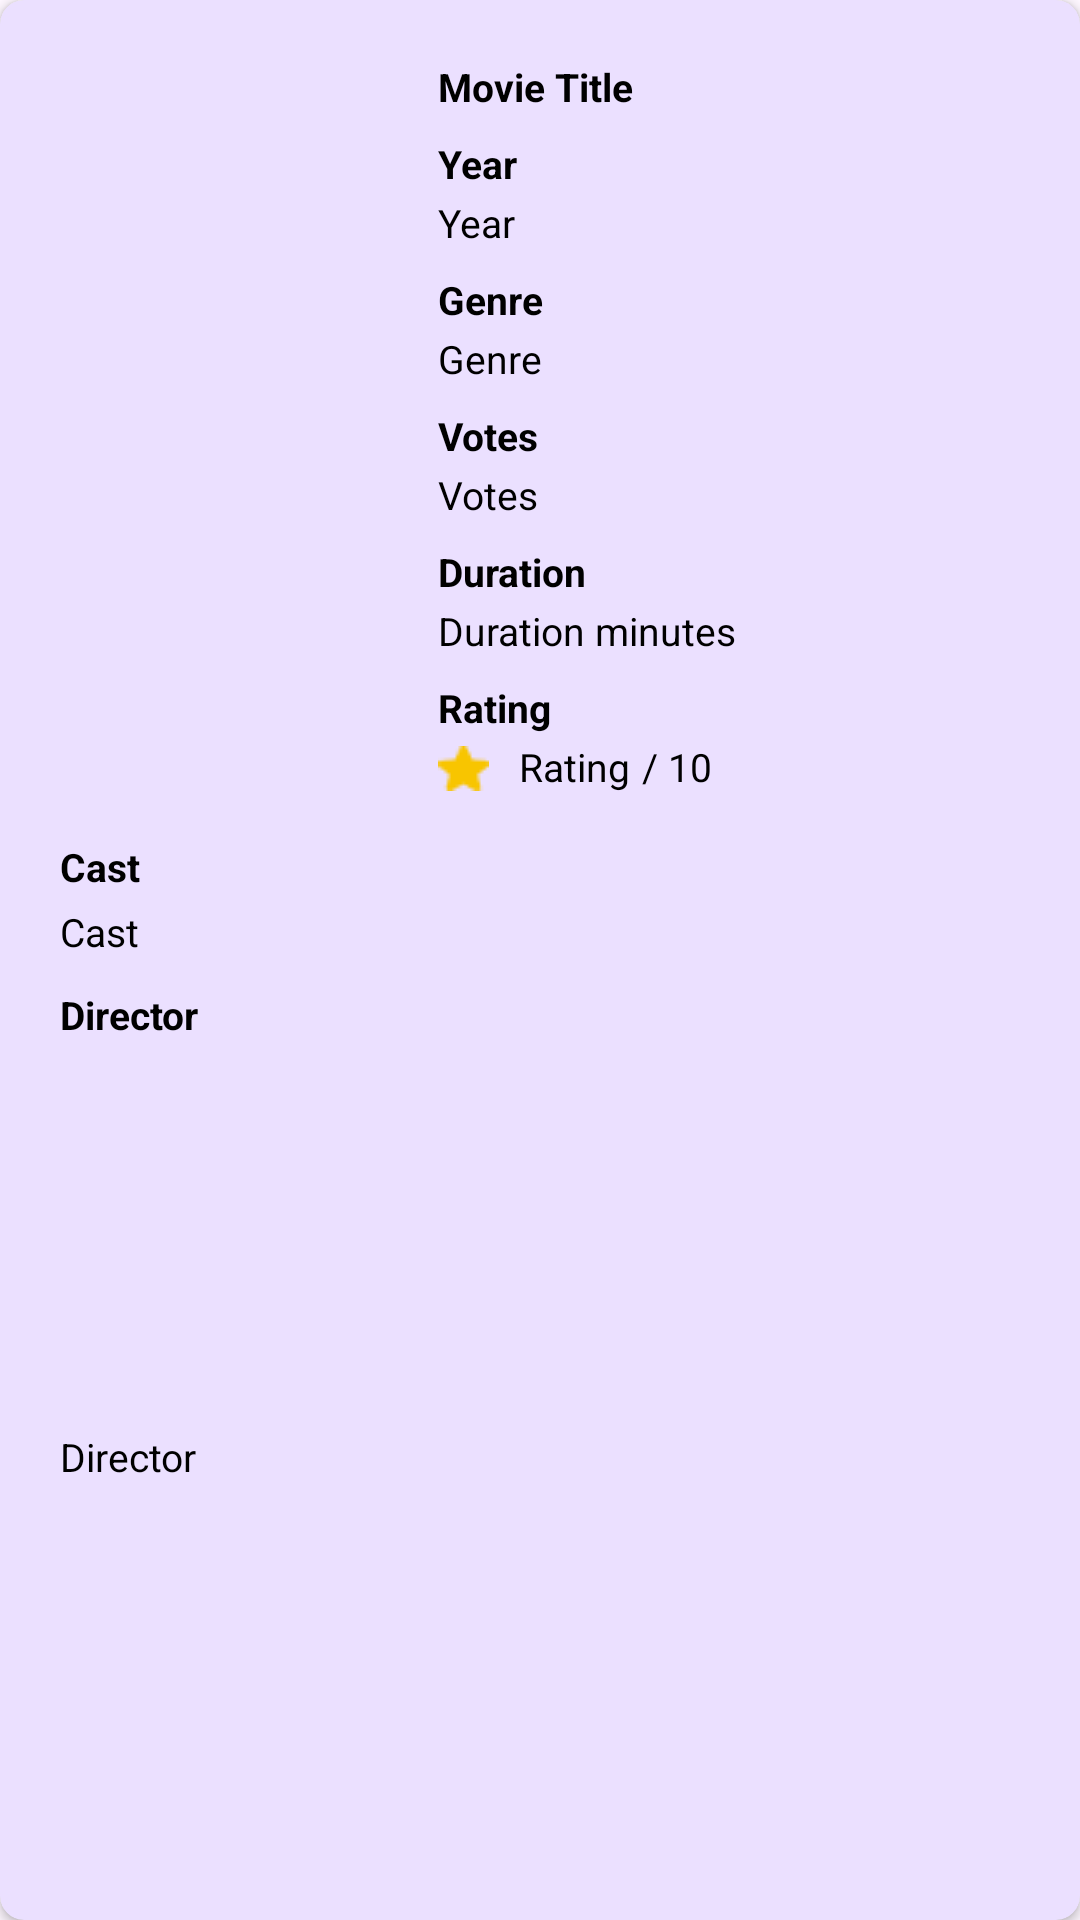

Icon click points for this 1080*1920 phone screenshot, format [x,y]:
star: [463,768]
